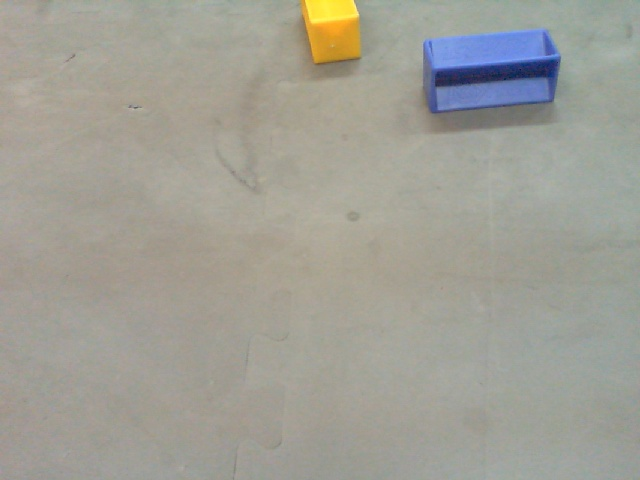BlueSample: (423, 28, 565, 111)
YellowSample: (298, 1, 367, 66)
